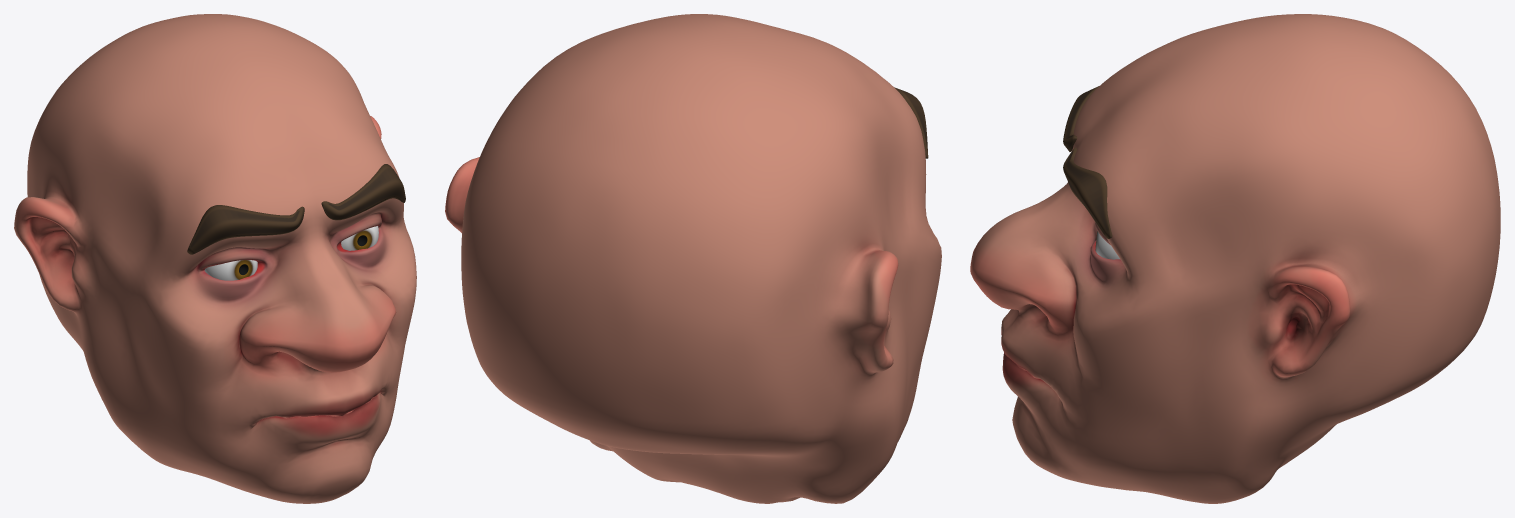
3 views of the same model, side by side, from view 1: azimuth 30°, elevation 25°; view 2: azimuth 150°, elevation 25°; view 3: azimuth 270°, elevation 25° (orthographic). The views are drawn at different scales.
Parts seen in each view (by area): view 1: FortniteNoseLowboi.001, Plane, eyeRend.003; view 2: FortniteNoseLowboi.001, Plane; view 3: FortniteNoseLowboi.001, Plane.
Boxes of the visible parts, x1,y1,x2,y2 form: FortniteNoseLowboi.001: (14,14,416,503); Plane: (187,164,405,254); eyeRend.003: (204,226,378,280); FortniteNoseLowboi.001: (445,14,941,503); Plane: (894,87,928,158); FortniteNoseLowboi.001: (970,14,1500,503); Plane: (1063,86,1112,238).
Size of the model in its own units: 69.8 by 72.62 by 80.9.
Materials: 3 (3 with a texture image).
